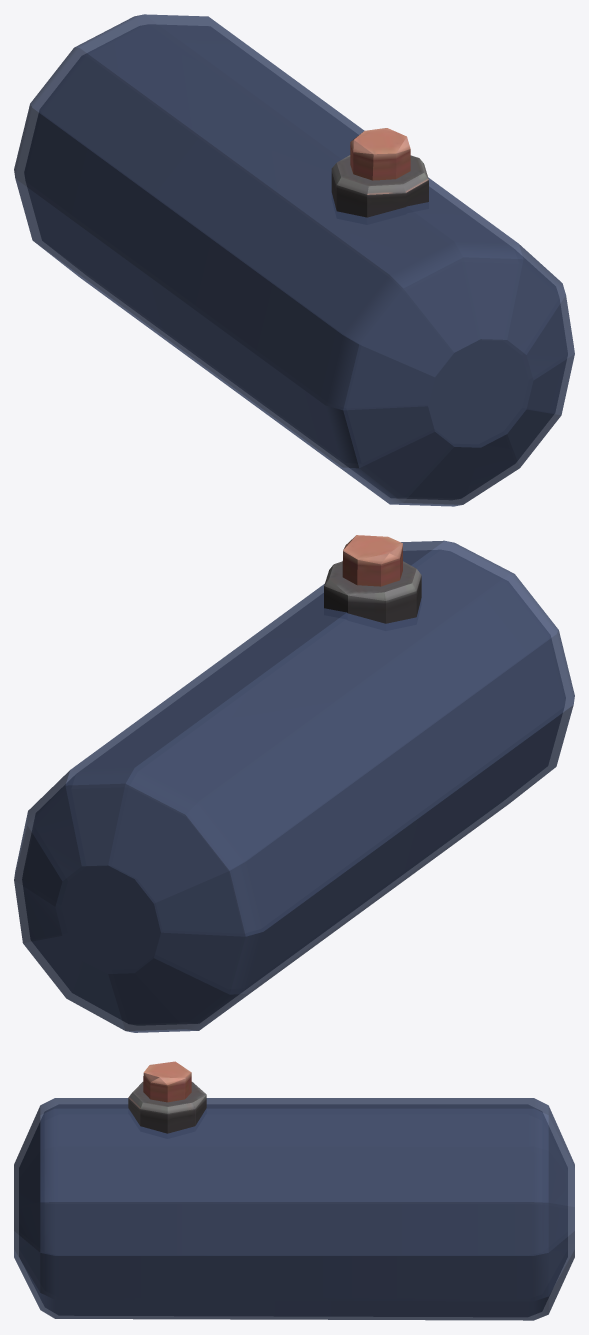
File: CYG_TM.glb
The picture shows the model from 3 angles, top to bottom: view 1: azimuth 30°, elevation 25°; view 2: azimuth 150°, elevation 25°; view 3: azimuth 270°, elevation 25°; orthographic projection. The views are drawn at different scales.
Visible parts, largest first — view 1: CYG_TM; view 2: CYG_TM; view 3: CYG_TM.
Part boxes in pixels (bbox=[...]): CYG_TM: bbox=[14, 14, 574, 506]; CYG_TM: bbox=[14, 535, 574, 1032]; CYG_TM: bbox=[14, 1061, 574, 1320].
Bounding box in the file's own units: 1.75 × 2.12 × 4.44.
3 materials, 1 textured.
